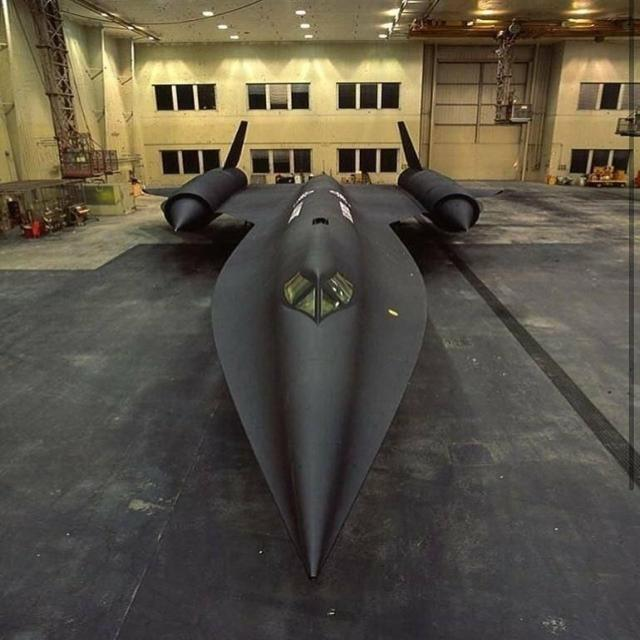MIL_Plane: (140, 120, 503, 583)
